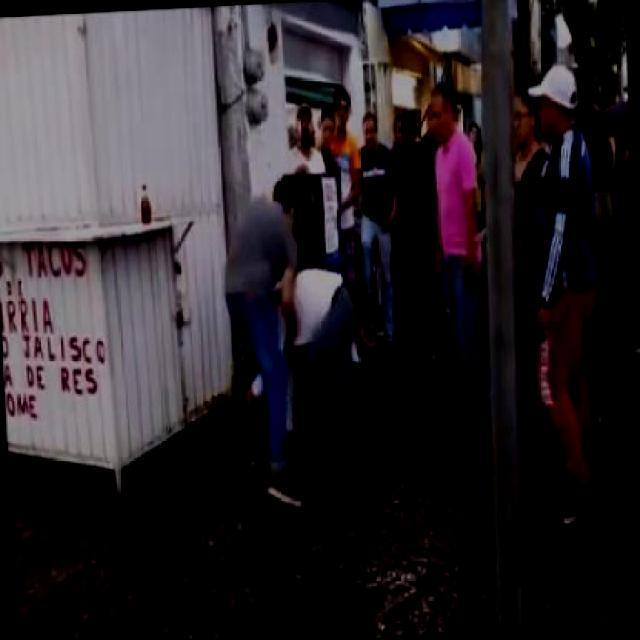fight: (212, 173, 370, 504)
non-fight: (522, 58, 607, 530), (412, 83, 492, 432)
